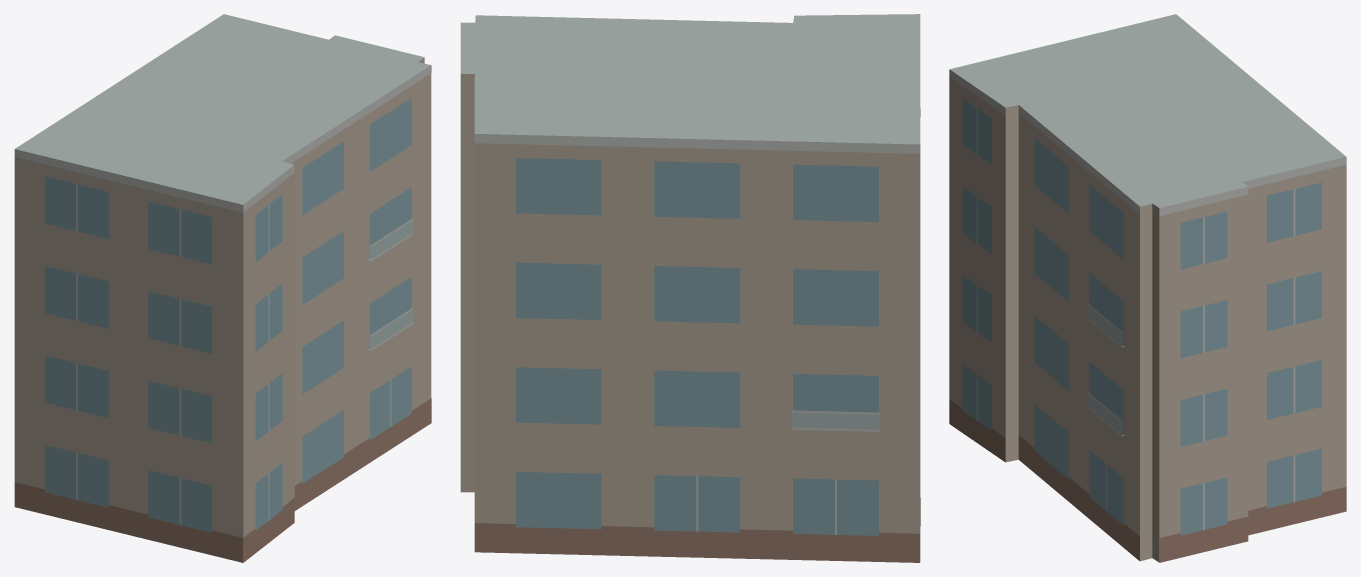
Rendered from survey-upis-33023879.glb.
3 renders of one model, left to right at view 1: azimuth 30°, elevation 25°; view 2: azimuth 150°, elevation 25°; view 3: azimuth 270°, elevation 25°, orthographic. The views are drawn at different scales.
Parts seen in each view (by area): view 1: survey-upis-33023879.tmp; view 2: survey-upis-33023879.tmp; view 3: survey-upis-33023879.tmp.
Part boxes in pixels (x1,y1,x2,y2): survey-upis-33023879.tmp: (14,14,431,562); survey-upis-33023879.tmp: (460,14,920,562); survey-upis-33023879.tmp: (949,14,1346,562).
Size of the model in its own units: 12.81 by 10.9 by 11.07.
